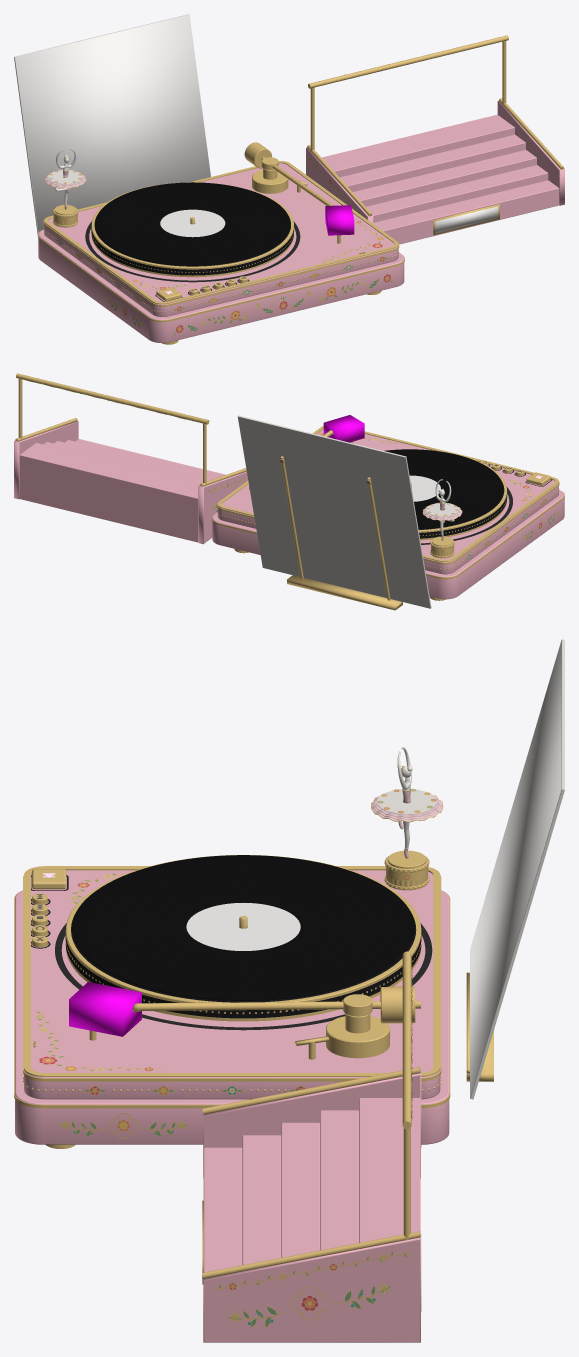
The model's file is cd-player-luxe.glb.
The picture shows the model from 3 angles, top to bottom: view 1: azimuth 30°, elevation 25°; view 2: azimuth 150°, elevation 25°; view 3: azimuth 270°, elevation 25°; orthographic projection. The views are drawn at different scales.
Visible parts, largest first — view 1: luxe_sleeve_cover, luxe_stand, luxe_tier_upper, luxe_disc_vinyl, luxe_tier_lower, luxe_frame, luxe_deck_orn_luxe_metal, luxe_platter_rim, luxe_disc_label, luxe_platter_band, luxe_stand_panel_r, luxe_stand_bar (+10 smaller); view 2: luxe_sleeve_card, luxe_stand, luxe_tier_upper, luxe_tier_lower, luxe_disc_vinyl, luxe_stand_panel_l, luxe_frame, luxe_ledge_bar, luxe_stand_panel_r, luxe_stand_bar, luxe_arm_hit, luxe_platter_rim (+10 smaller); view 3: luxe_disc_vinyl, luxe_tier_upper, luxe_stand, luxe_stand_panel_r, luxe_sleeve_cover, luxe_tier_lower, luxe_stand_panel_l, luxe_frame, luxe_disc_label, luxe_platter_rim, luxe_arm_hit, luxe_platter_band (+14 smaller).
Boxes of the visible parts, box(x1,y1,x2,y2) form: luxe_sleeve_cover: box(15, 15, 210, 232); luxe_stand: box(322, 114, 559, 244); luxe_tier_upper: box(44, 163, 398, 316); luxe_disc_vinyl: box(95, 182, 290, 265); luxe_tier_lower: box(38, 229, 404, 342); luxe_frame: box(44, 161, 398, 304); luxe_deck_orn_luxe_metal: box(57, 219, 393, 335); luxe_platter_rim: box(91, 182, 293, 277); luxe_disc_label: box(160, 209, 225, 237); luxe_platter_band: box(91, 226, 293, 275); luxe_stand_panel_r: box(497, 100, 564, 205); luxe_stand_bar: box(308, 35, 508, 88); luxe_sleeve_card: box(237, 415, 431, 608); luxe_stand: box(19, 439, 225, 542); luxe_tier_upper: box(217, 429, 558, 574); luxe_tier_lower: box(212, 490, 564, 599); luxe_disc_vinyl: box(384, 449, 503, 528); luxe_stand_panel_l: box(198, 471, 247, 544); luxe_frame: box(217, 425, 558, 561); luxe_ledge_bar: box(287, 575, 402, 610); luxe_stand_panel_r: box(14, 421, 78, 499); luxe_stand_bar: box(16, 373, 209, 424); luxe_arm_hit: box(323, 415, 364, 442); luxe_platter_rim: box(383, 449, 506, 540); luxe_disc_vinyl: box(72, 855, 414, 1000); luxe_tier_upper: box(24, 870, 440, 1099); luxe_stand: box(203, 1098, 420, 1272); luxe_stand_panel_r: box(203, 1234, 421, 1342); luxe_sleeve_cover: box(470, 640, 561, 1097); luxe_tier_lower: box(15, 890, 449, 1144); luxe_stand_panel_l: box(203, 1070, 421, 1177); luxe_frame: box(24, 866, 440, 1076); luxe_disc_label: box(186, 902, 300, 950); luxe_platter_rim: box(65, 855, 421, 1021); luxe_arm_hit: box(69, 982, 141, 1036); luxe_platter_band: box(65, 934, 421, 1018).
Bounding box in the file's own units: 0.8218 × 0.3084 × 0.4819.
